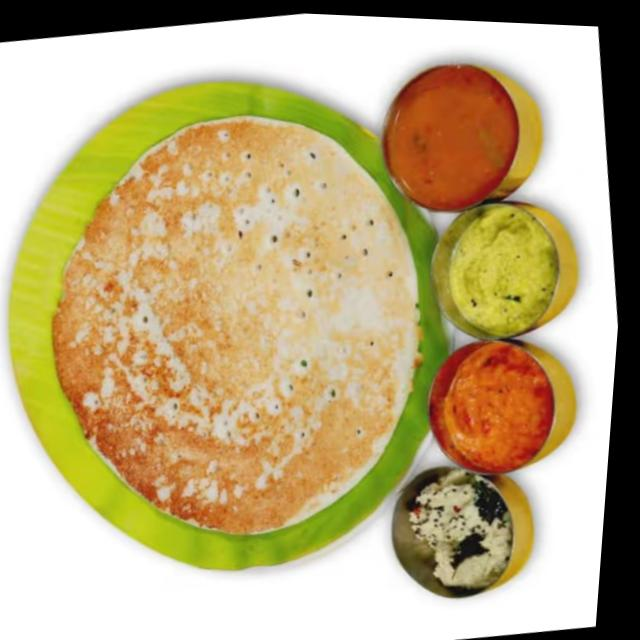AAPAM: (53, 121, 416, 533)
GREEN CHUTNEY: (450, 208, 552, 333)
RED CHUTNEY: (444, 345, 550, 466)
SAMBAR: (392, 69, 515, 200)
WHITE CHUTNEY: (421, 481, 506, 585)
